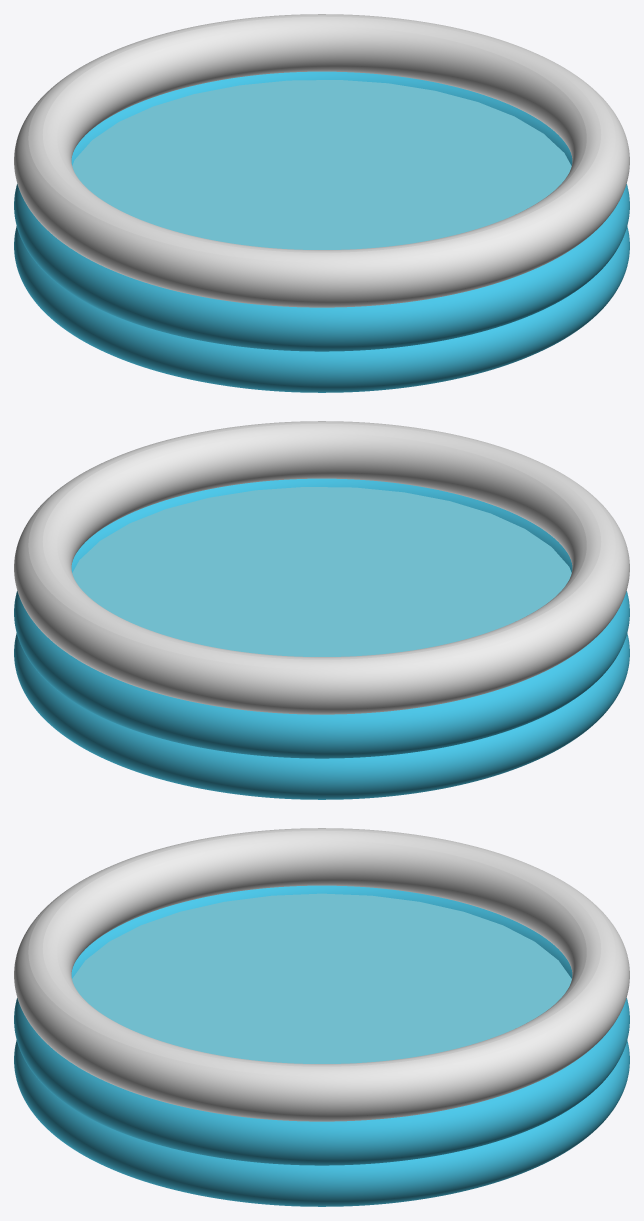
File: KIDPOOL.fbx
3 renders of one model, top to bottom at view 1: azimuth 30°, elevation 25°; view 2: azimuth 150°, elevation 25°; view 3: azimuth 270°, elevation 25°, orthographic.
Parts seen in each view (by area): view 1: Torus.002, Cylinder.001, Torus.001, Torus; view 2: Torus.002, Cylinder.001, Torus.001, Torus; view 3: Torus.002, Cylinder.001, Torus.001, Torus.
Boxes of the visible parts, bbox=[...] form: Torus.002: bbox=[14, 14, 629, 307]; Cylinder.001: bbox=[72, 80, 571, 249]; Torus.001: bbox=[14, 71, 629, 351]; Torus: bbox=[14, 226, 629, 392]; Torus.002: bbox=[14, 421, 629, 714]; Cylinder.001: bbox=[72, 487, 571, 656]; Torus.001: bbox=[14, 478, 629, 758]; Torus: bbox=[14, 633, 629, 799]; Torus.002: bbox=[14, 828, 629, 1121]; Cylinder.001: bbox=[72, 893, 571, 1063]; Torus.001: bbox=[14, 885, 629, 1165]; Torus: bbox=[14, 1040, 629, 1206].
Size of the model in its own units: 631 by 155 by 631.
